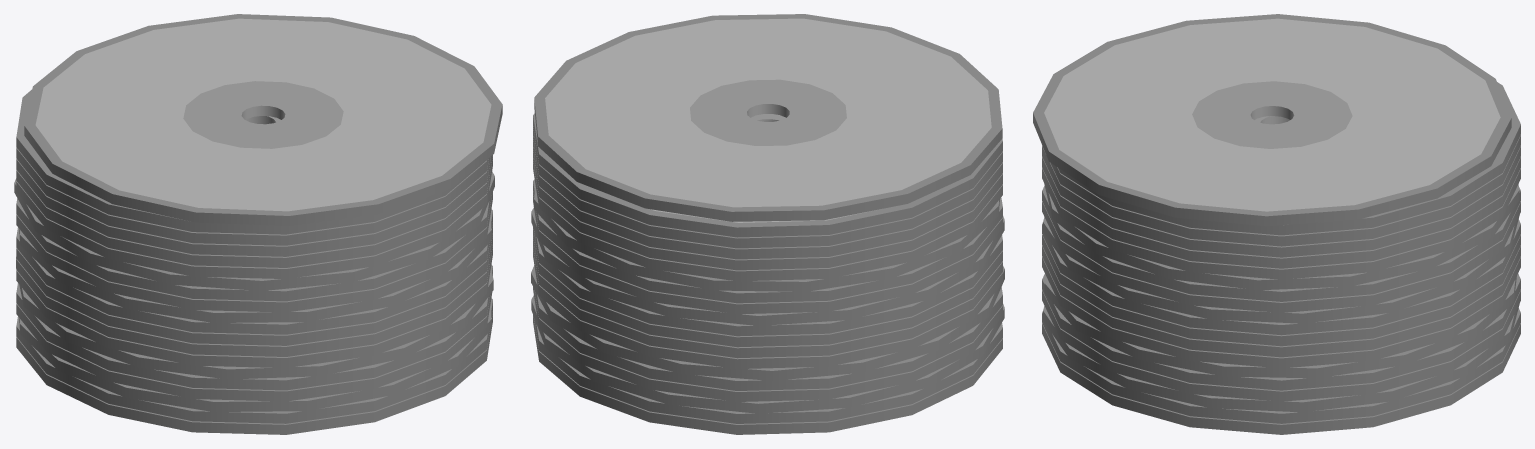
The model's file is CDStack_01.glb.
The picture shows the model from 3 angles, left to right: view 1: azimuth 30°, elevation 25°; view 2: azimuth 150°, elevation 25°; view 3: azimuth 270°, elevation 25°; orthographic projection.
Visible parts, largest first — view 1: Mesh_CDStack_01; view 2: Mesh_CDStack_01; view 3: Mesh_CDStack_01.
Boxes of the visible parts, x1,y1,x2,y2 form: Mesh_CDStack_01: (14, 14, 502, 434); Mesh_CDStack_01: (531, 14, 1004, 434); Mesh_CDStack_01: (1033, 14, 1520, 434).
Size of the model in its own units: 0.1349 by 0.0679 by 0.1361.
Materials: 1 (1 with a texture image).
